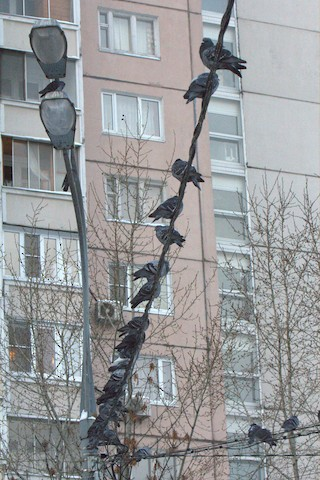pigeon: (195, 30, 250, 71), (172, 67, 225, 105), (147, 219, 193, 254), (169, 151, 207, 188), (143, 191, 193, 219), (242, 418, 280, 451), (126, 281, 164, 313), (124, 257, 174, 281), (112, 313, 156, 340), (103, 352, 142, 376), (273, 413, 307, 436)
